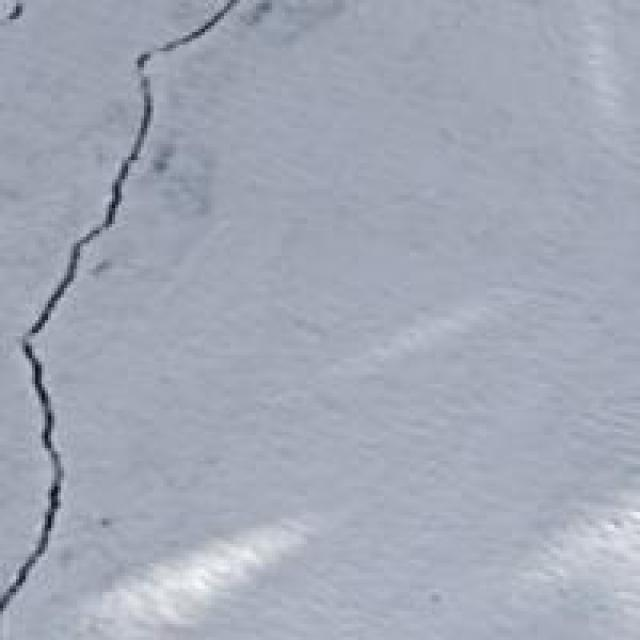Crack: (0, 0, 253, 637)
